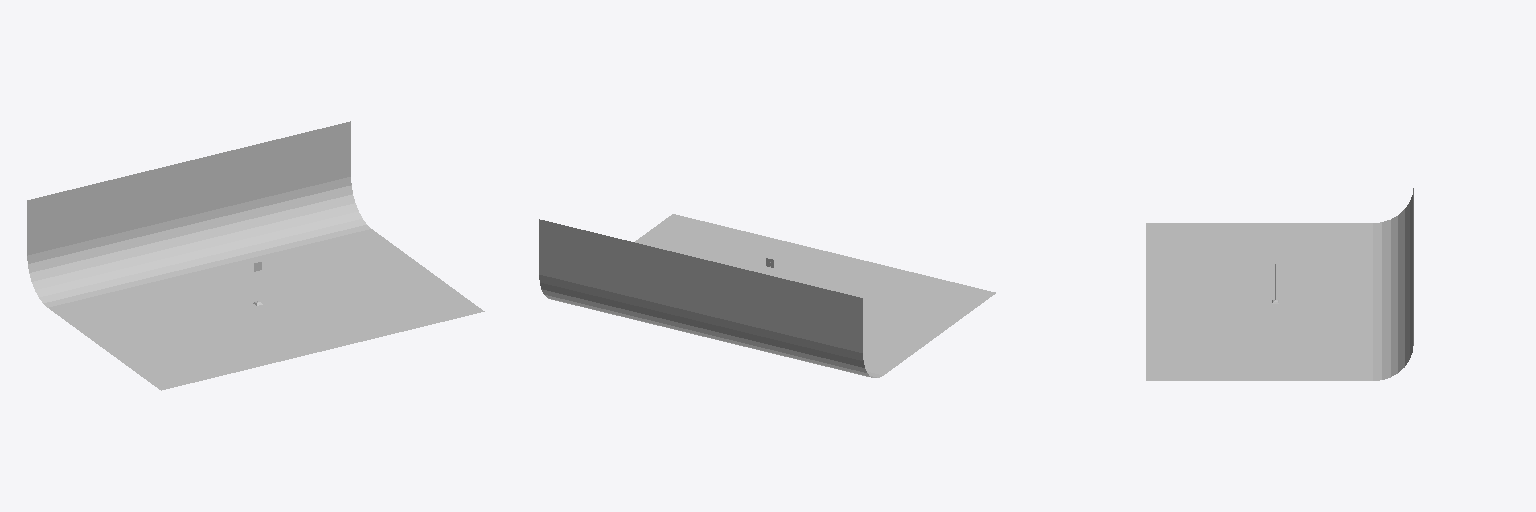
The model's file is crossroad_sign.obj.
3 views of the same model, side by side, from view 1: azimuth 30°, elevation 25°; view 2: azimuth 150°, elevation 25°; view 3: azimuth 270°, elevation 25° (orthographic).
Parts seen in each view (by area): view 1: Plane.002_Plane.001; view 2: Plane.002_Plane.001; view 3: Plane.002_Plane.001.
Part boxes in pixels (bbox=[...]): Plane.002_Plane.001: bbox=[27, 121, 484, 390]; Plane.002_Plane.001: bbox=[539, 214, 995, 377]; Plane.002_Plane.001: bbox=[1146, 188, 1413, 380].
Size of the model in its own units: 80 by 21.82 by 57.2.